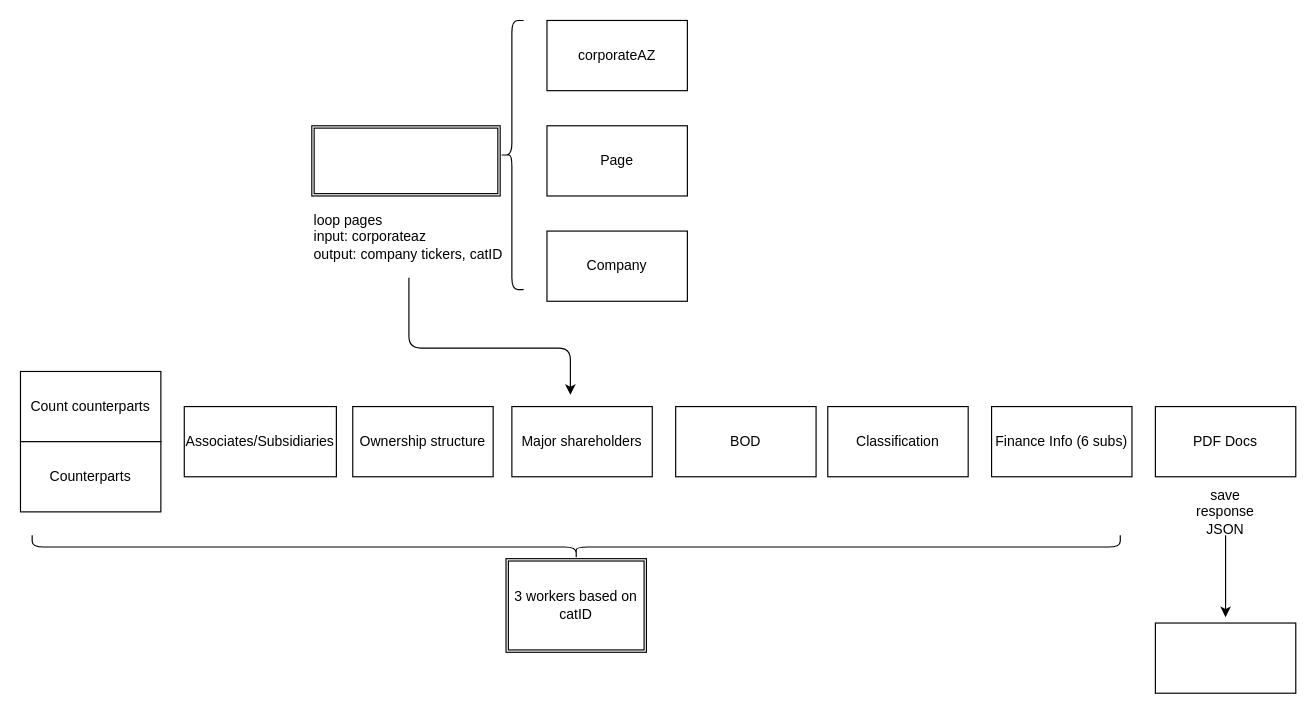
Some shapes in this 1316 by 714 pixel diagram are drawn without their labels. Here are the shapes that lost their labels. From the top down, the box of each, then its label:
(311, 125, 500, 196): 1 worker
(1154, 622, 1296, 693): 1 worker to use JSON to get PDFs
